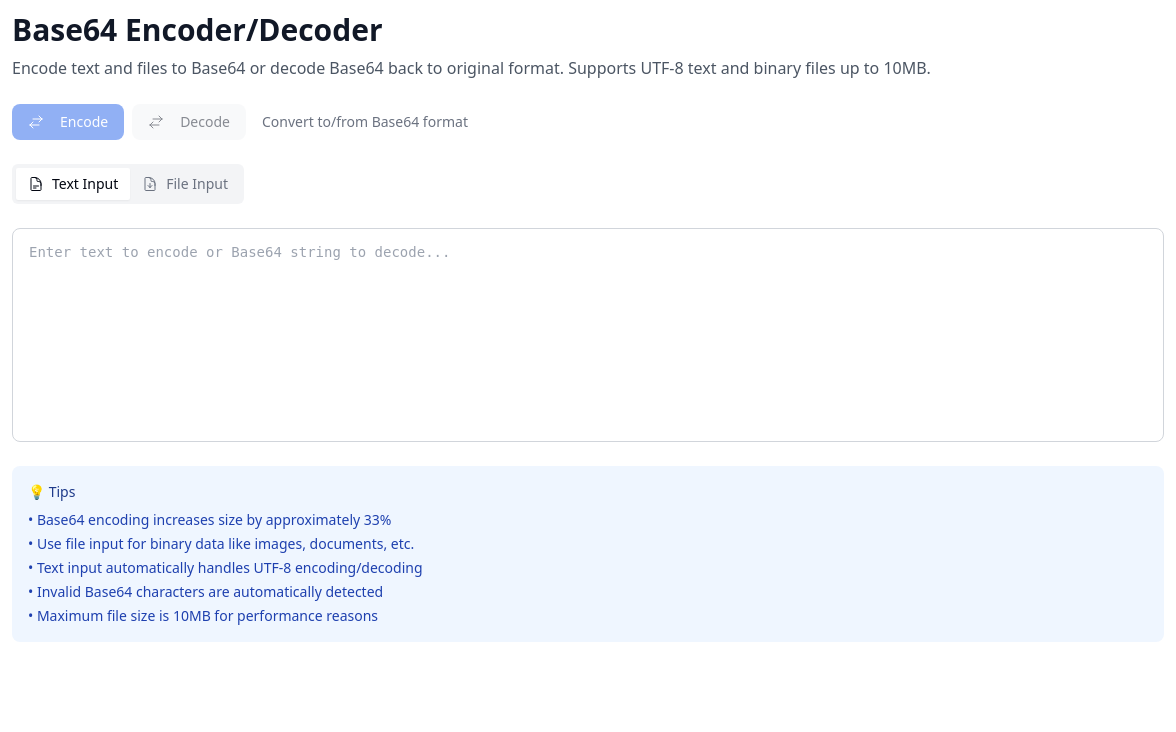
Test: Base64Tool › Text Encoding › should show error for invalid base64
The image size is (1176, 732).
// Input invalid base64
Type "Invalid base64!" into the text box with placeholder "Enter text to encode or Base64 string to decode...". click: x=588, y=332
box: [13, 229, 1163, 435]
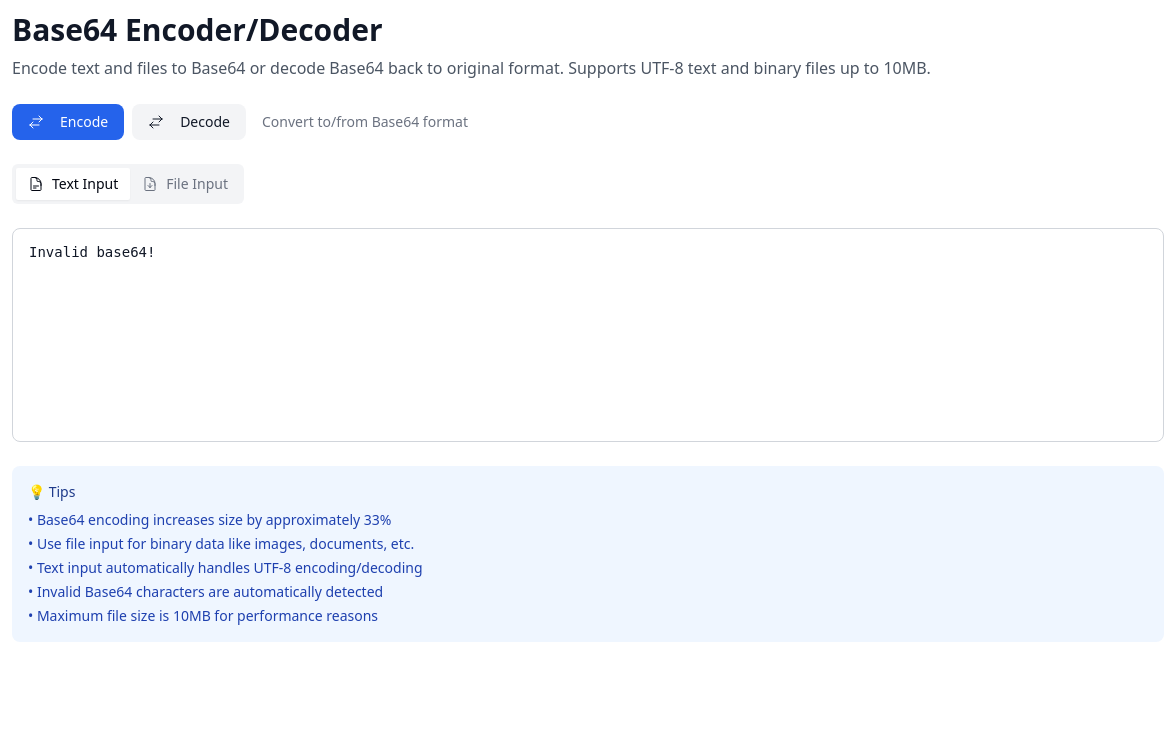
// Click decode button
Click the button "Decode". click: x=189, y=122
box: [132, 104, 246, 140]
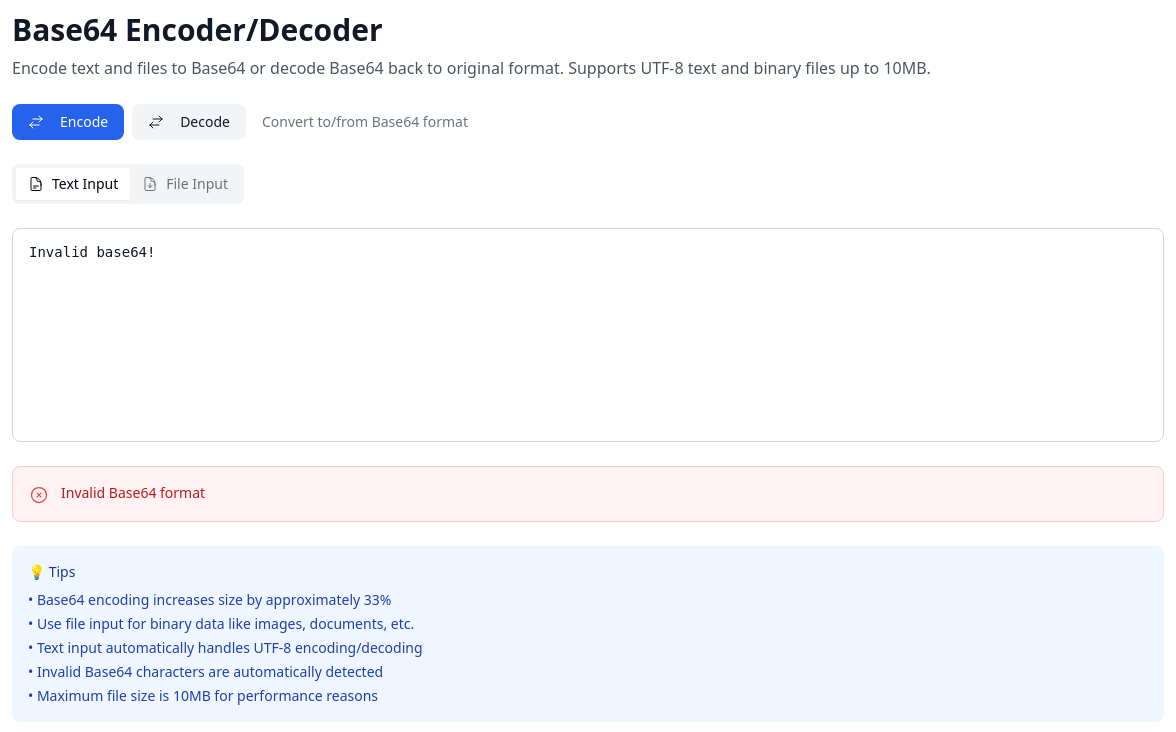
expect the text "Invalid Base64 format" is shown: met, box [61, 483, 205, 502]
